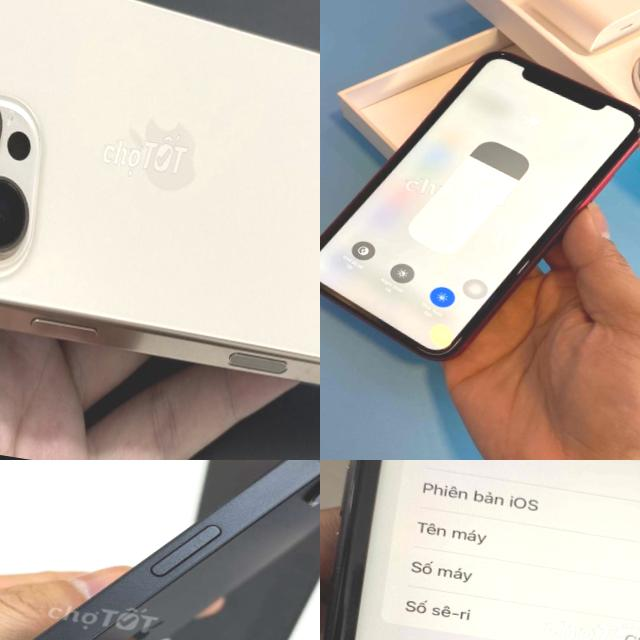gen_14: (320, 12, 640, 386)
gen_16: (0, 0, 320, 414), (31, 460, 320, 640)
gen_x_xs: (320, 460, 640, 640)
